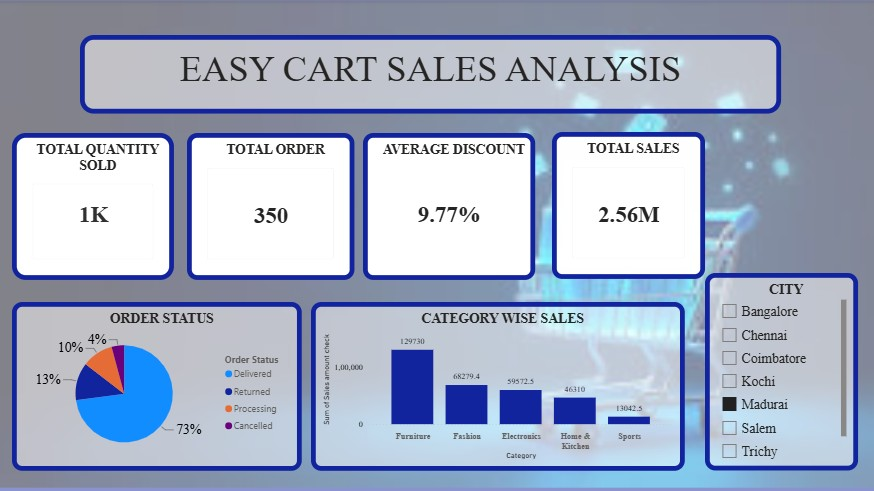

The dashboard page shown, as its layout file describes it:
{"tool":"powerbi","page":{"name":"Page 1","canvas":[1280,720],"ordinal":0},"visuals":[{"type":"textbox","box":[116.8,50.8,1026,115.1],"z":0},{"type":"cardVisual","title":"TOTAL ORDER","fields":{"Data":["Count(Sales Data.Order ID)"]},"box":[273.4,195.3,245,214.8],"z":1000},{"type":"cardVisual","title":"AVERAGE DISCOUNT","fields":{"Data":["Avg(Sales Data.Discount check)"]},"box":[530.8,195.3,252.1,214.8],"z":2000},{"type":"cardVisual","title":"TOTAL QUANTITY SOLD","fields":{"Data":["Sum(Sales Data.Quantity)"]},"box":[16.9,194.7,237,215],"z":3000},{"type":"cardVisual","title":"TOTAL SALES","fields":{"Data":["Sum(Sales Data.Sales amount check)"]},"box":[807.8,193.5,223.7,214.8],"z":4000},{"type":"pieChart","title":"ORDER STATUS","fields":{"Category":["Sales Data.Order Status"],"Y":["CountNonNull(Sales Data.Order Status)"]},"box":[17.8,442.1,424.3,246.8],"z":5000},{"type":"columnChart","title":"CATEGORY WISE SALES","fields":{"Y":["Sum(Sales Data.Sales amount check)"],"Category":["Sales Data.Category"]},"box":[454.5,442.1,546.8,246.8],"z":6000},{"type":"slicer","title":"CITY","fields":{"Values":["Sales Data.City"]},"box":[1031.5,399.4,223.7,289.4],"z":7000}]}

Visuals, with their boxes in screenshot pixels (x1, y1, x2, y2), scaled from the page's 1280x720 canvas onto the 874x491 screenshot:
textbox: [x1=80, y1=35, x2=780, y2=113]
"TOTAL ORDER" cardVisual: [x1=187, y1=133, x2=354, y2=280]
"AVERAGE DISCOUNT" cardVisual: [x1=362, y1=133, x2=535, y2=280]
"TOTAL QUANTITY SOLD" cardVisual: [x1=12, y1=133, x2=173, y2=279]
"TOTAL SALES" cardVisual: [x1=552, y1=132, x2=704, y2=278]
"ORDER STATUS" pieChart: [x1=12, y1=301, x2=302, y2=470]
"CATEGORY WISE SALES" columnChart: [x1=310, y1=301, x2=684, y2=470]
"CITY" slicer: [x1=704, y1=272, x2=857, y2=470]
